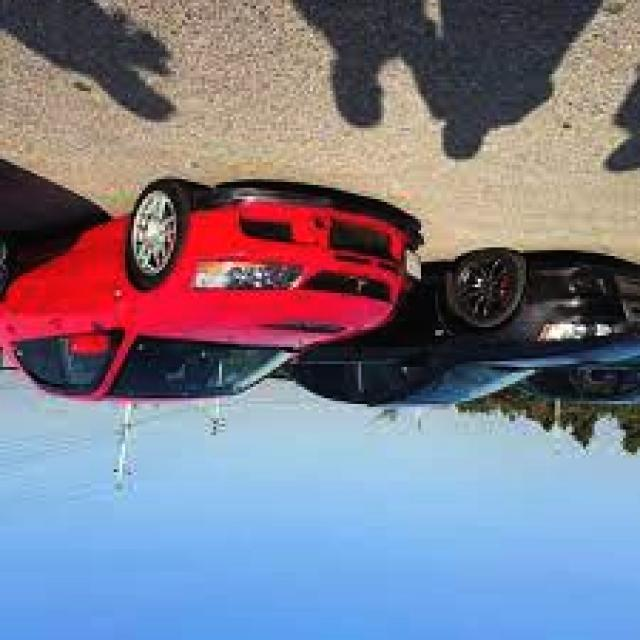black: (276, 252, 638, 410)
red: (0, 151, 411, 435)
